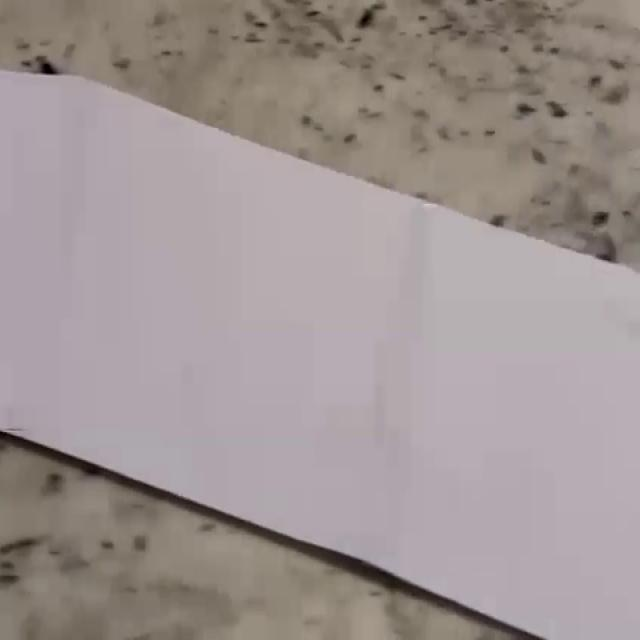road: (0, 70, 640, 637)
